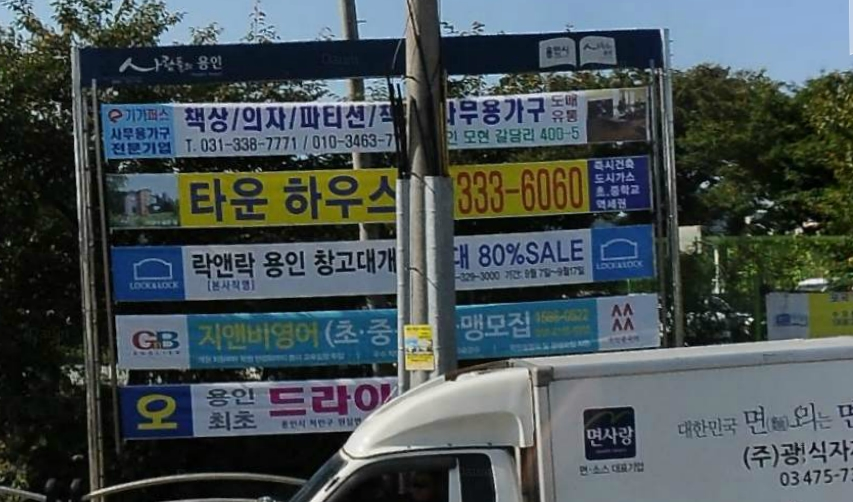banner: (66, 297, 748, 366), (87, 87, 673, 159), (62, 229, 690, 296), (59, 161, 702, 219)
